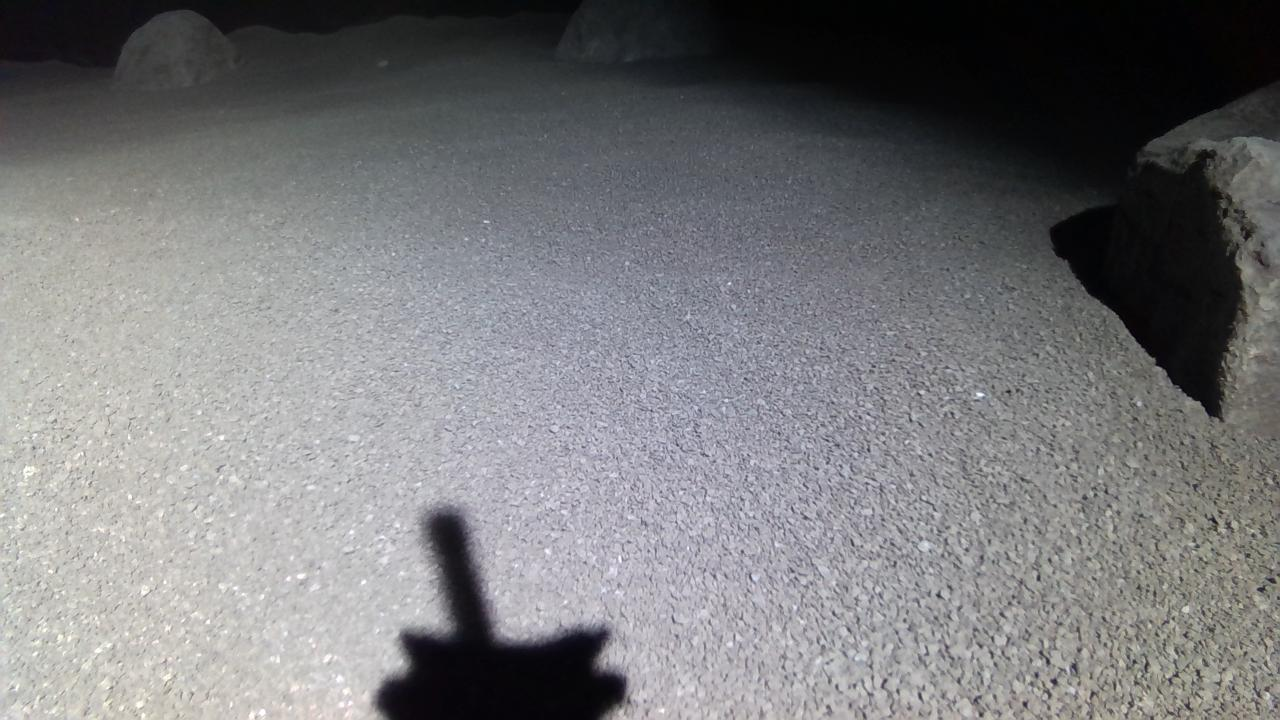rock: (1109, 82, 1280, 437), (556, 0, 721, 61), (113, 8, 235, 88)
